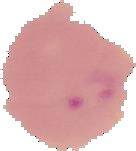parasitized: (33, 46, 119, 119)
